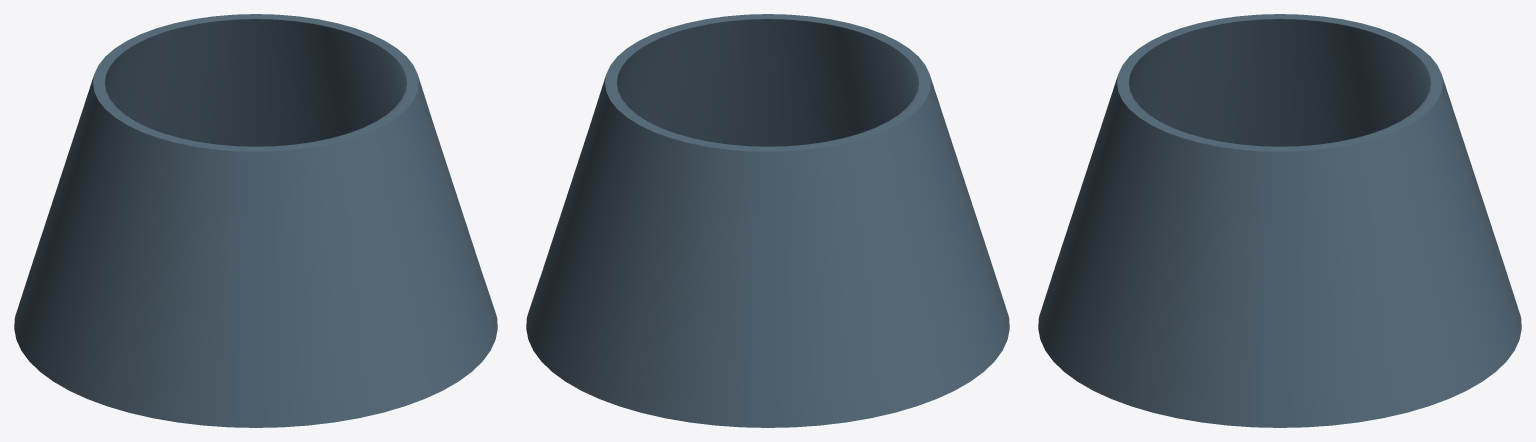
The model's file is perehod-325x10-219x8-L180.glb.
3 views of the same model, side by side, from view 1: azimuth 30°, elevation 25°; view 2: azimuth 150°, elevation 25°; view 3: azimuth 270°, elevation 25° (orthographic).
Visible parts, largest first — view 1: Open CASCADE STEP translator 7.9 58; view 2: Open CASCADE STEP translator 7.9 58; view 3: Open CASCADE STEP translator 7.9 58.
Part boxes in pixels (left/top/right/bottom): Open CASCADE STEP translator 7.9 58: left=14, top=14, right=497, bottom=427; Open CASCADE STEP translator 7.9 58: left=526, top=14, right=1009, bottom=427; Open CASCADE STEP translator 7.9 58: left=1038, top=14, right=1521, bottom=427.
Size of the model in its own units: 325 by 180 by 325.
